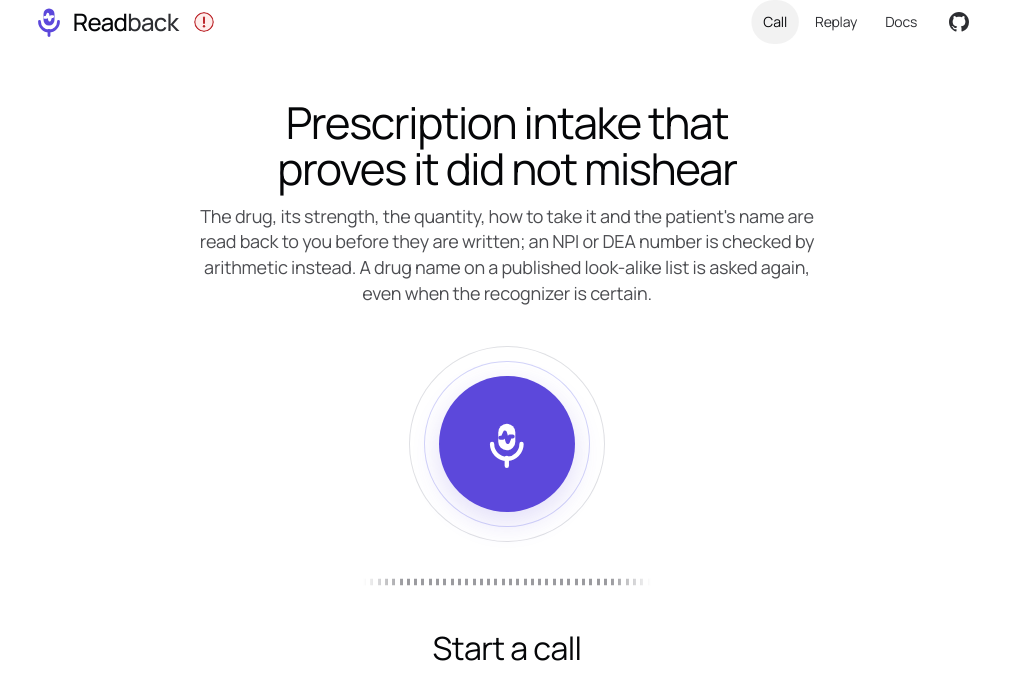
Test case: H12: no failure is replaced by a made-up answer › shows a refused finalise as an alert rather than a silent loss
What coordinates should you click on to do the following:
click the button named "Start listening"
I would click on:
 (507, 444)
Its box is top-left (439, 376), bottom-right (575, 512).
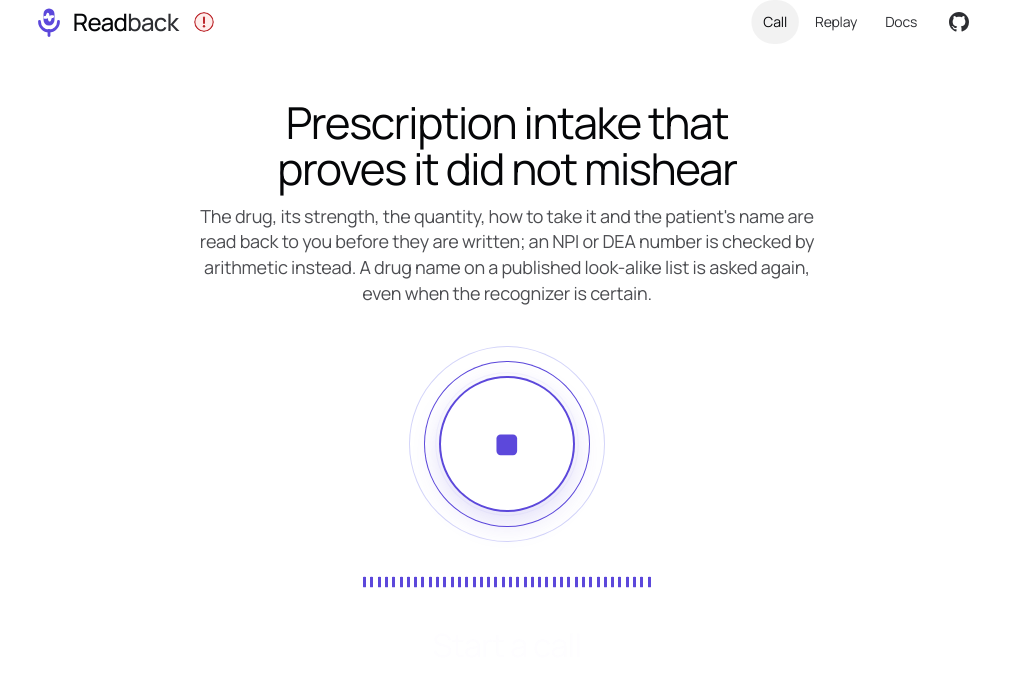
What coordinates should you click on to do the following:
click the button named "stop"
I would click on:
 (507, 444)
Its box is top-left (439, 376), bottom-right (575, 512).
Wait 5000 ms
(page scrolled)
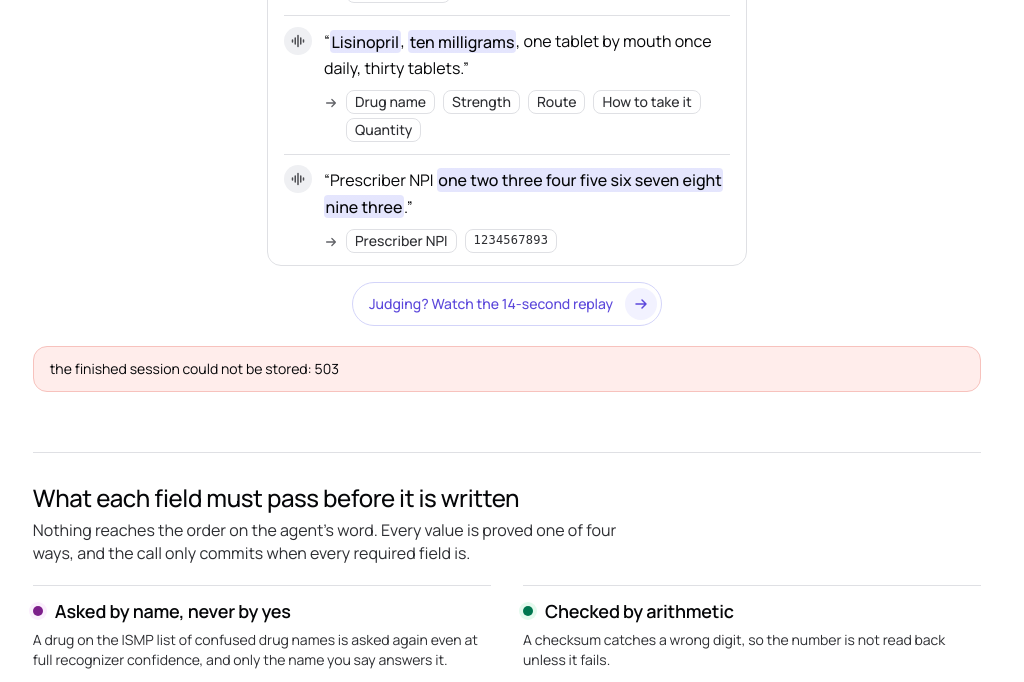
Check: the message shows "could not be stored: 503", box top-left (50, 359), bottom-right (339, 378)
